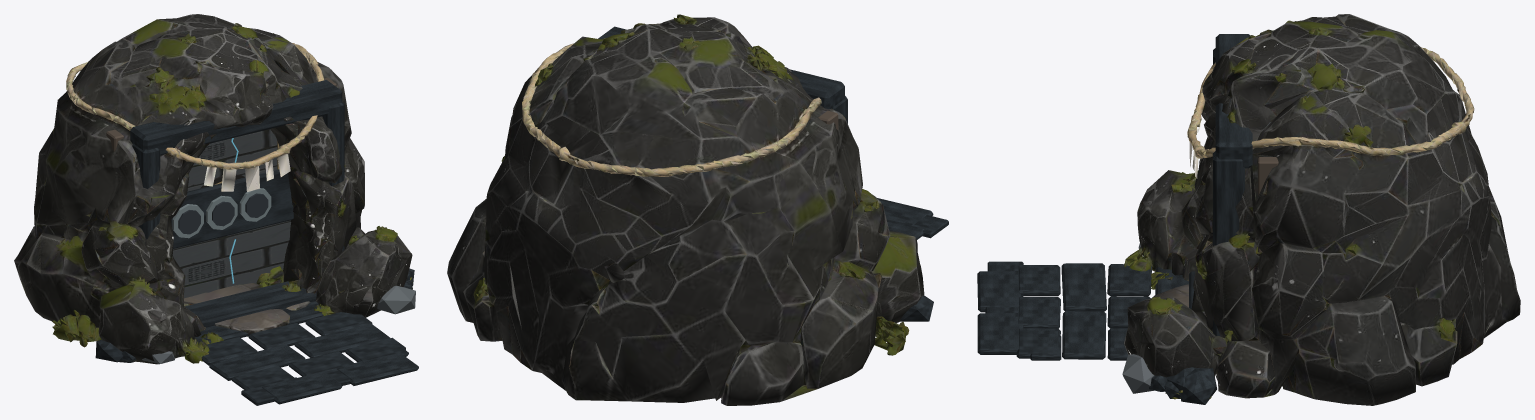
The model's file is town_sealed_threshold.glb.
3 renders of one model, left to right at view 1: azimuth 30°, elevation 25°; view 2: azimuth 150°, elevation 25°; view 3: azimuth 270°, elevation 25°, orthographic. The views are drawn at different scales.
Parts seen in each view (by area): view 1: cave_arch, dark_blue_stone_merged, CandidateMesh, empty_fragment_recess_merged, fragment_socket_lip_merged, cut_stone_edge_merged; view 2: cave_arch, dark_blue_stone_merged; view 3: cave_arch, dark_blue_stone_merged, cut_stone_edge_merged.
Part boxes in pixels (box(x1,y1,x2,y2)): cave_arch: box(14, 14, 412, 364); dark_blue_stone_merged: box(95, 80, 418, 405); CandidateMesh: box(172, 129, 306, 303); empty_fragment_recess_merged: box(178, 193, 268, 234); fragment_socket_lip_merged: box(172, 188, 271, 238); cut_stone_edge_merged: box(142, 285, 415, 364); cave_arch: box(447, 14, 924, 405); dark_blue_stone_merged: box(598, 26, 948, 321); cave_arch: box(1124, 14, 1520, 405); dark_blue_stone_merged: box(977, 34, 1252, 404); cut_stone_edge_merged: box(1122, 241, 1154, 393).
Size of the model in its own units: 4.37 by 3.07 by 5.26.
Materials: 11 (3 with a texture image).
